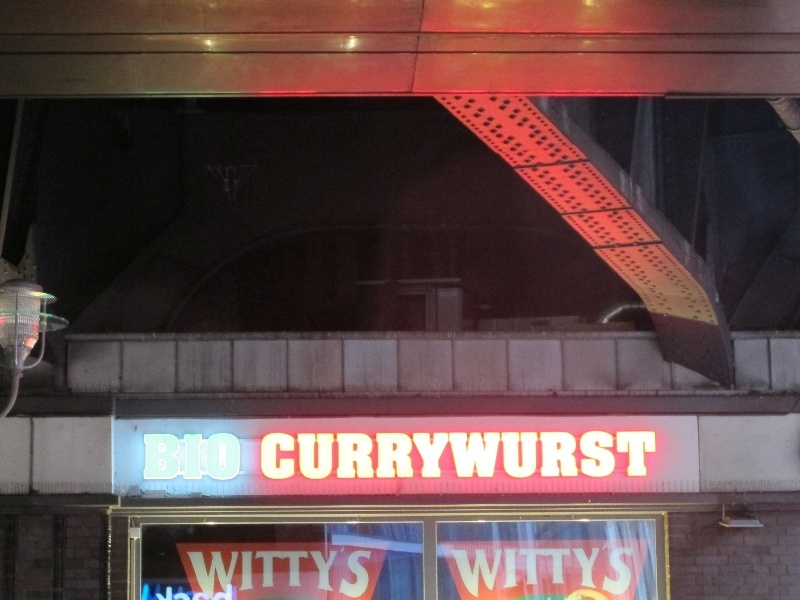text: (369, 381, 384, 488), (385, 381, 400, 488), (401, 381, 416, 488), (417, 381, 432, 488), (433, 381, 448, 488), (449, 381, 464, 488), (465, 381, 480, 488), (481, 381, 496, 488), (497, 381, 512, 488), (513, 381, 528, 488), (289, 284, 304, 369), (305, 284, 320, 369), (321, 284, 336, 369), (337, 284, 352, 369), (353, 284, 368, 369), (369, 284, 384, 369), (385, 284, 400, 369), (401, 284, 416, 369), (417, 284, 432, 369), (433, 284, 448, 369), (449, 284, 464, 369), (465, 284, 480, 369), (481, 284, 496, 369), (497, 284, 512, 369), (513, 284, 528, 369), (273, 393, 288, 475), (289, 393, 304, 475), (305, 393, 320, 475), (321, 393, 336, 475), (337, 393, 352, 475), (529, 381, 540, 488), (209, 172, 224, 249), (225, 172, 240, 249), (241, 172, 256, 249), (257, 172, 272, 249), (273, 172, 288, 249), (289, 172, 304, 249), (305, 172, 320, 249), (321, 172, 336, 249), (337, 172, 352, 249), (353, 172, 368, 249), (369, 172, 384, 249), (385, 172, 400, 249), (401, 172, 416, 249), (417, 172, 432, 249), (433, 172, 448, 249), (449, 172, 464, 249), (465, 172, 480, 249), (481, 172, 496, 249), (497, 172, 512, 249), (513, 172, 528, 249), (529, 172, 544, 249), (545, 172, 560, 249), (561, 172, 576, 249), (577, 172, 592, 249), (593, 172, 608, 249), (199, 172, 208, 249), (529, 284, 536, 369), (49, 518, 64, 553), (65, 518, 79, 553), (283, 284, 288, 369), (609, 172, 614, 249), (353, 393, 357, 475), (65, 537, 80, 558), (81, 552, 97, 570), (81, 555, 96, 573), (529, 254, 544, 268), (545, 254, 560, 268), (561, 254, 576, 268), (577, 254, 592, 268), (593, 254, 608, 268), (270, 393, 272, 475), (81, 547, 93, 560), (81, 544, 91, 559), (44, 518, 48, 553), (367, 381, 368, 488), (81, 537, 86, 558), (74, 544, 80, 559), (97, 561, 104, 572), (76, 552, 80, 570), (97, 565, 106, 573), (91, 561, 96, 572), (97, 555, 100, 573), (609, 254, 612, 268), (77, 547, 80, 560), (78, 555, 80, 573), (63, 537, 64, 558), (94, 565, 96, 573)
